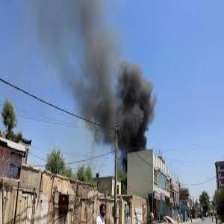smoke: (32, 1, 155, 152)
